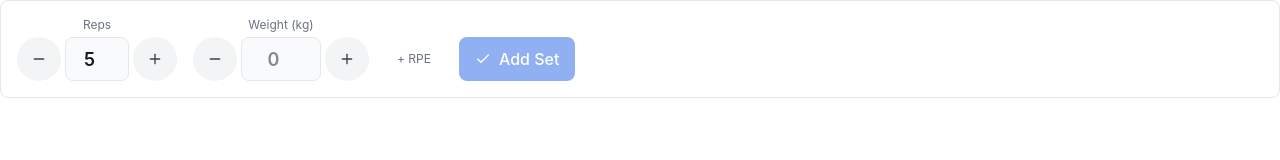
Test case: SetInput › should increment reps when + button is clicked
The width and height of the screenshot is (1280, 160).
Click the button named "Increase reps" at (155, 59), box [133,37,177,81]
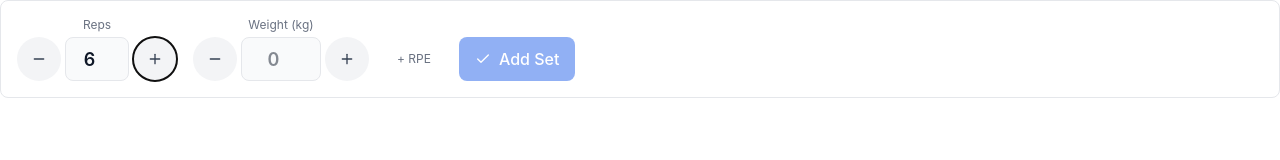
Now the number field named "Reps" holds "6", box [65,37,129,81]
